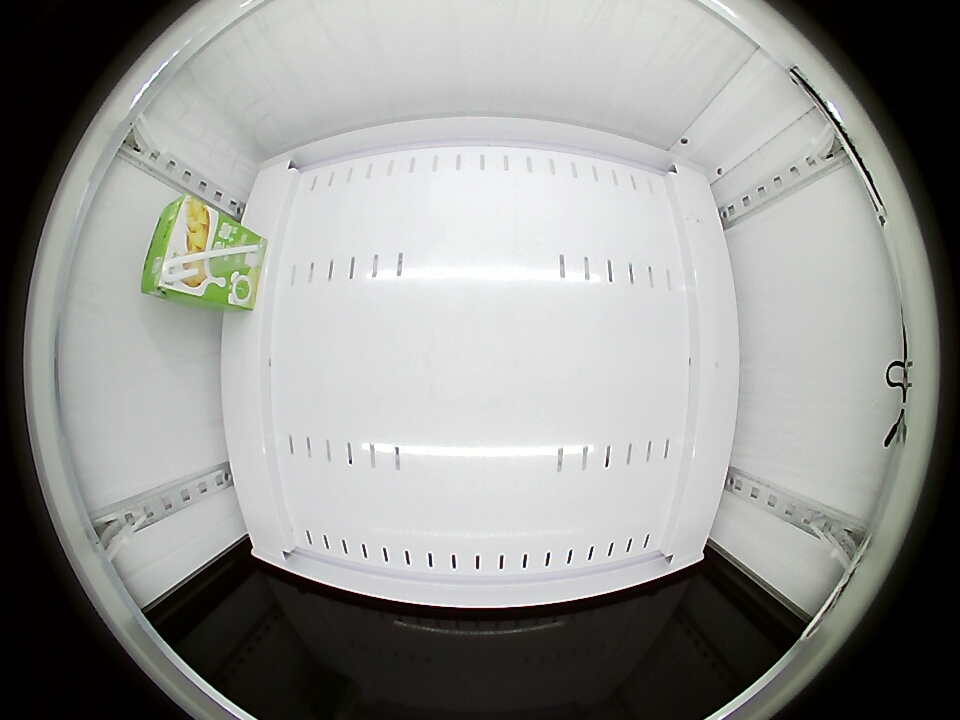mengniuzaocan: (142, 195, 212, 301)
